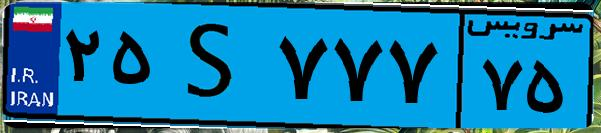2: (57, 26, 110, 100)
5: (525, 38, 570, 115), (110, 28, 158, 98)
7: (270, 28, 330, 110), (385, 28, 445, 110), (330, 28, 385, 110), (475, 38, 525, 113)
S: (158, 12, 270, 120)
